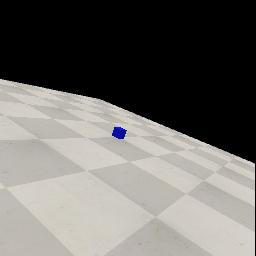box: (112, 127, 127, 139)
